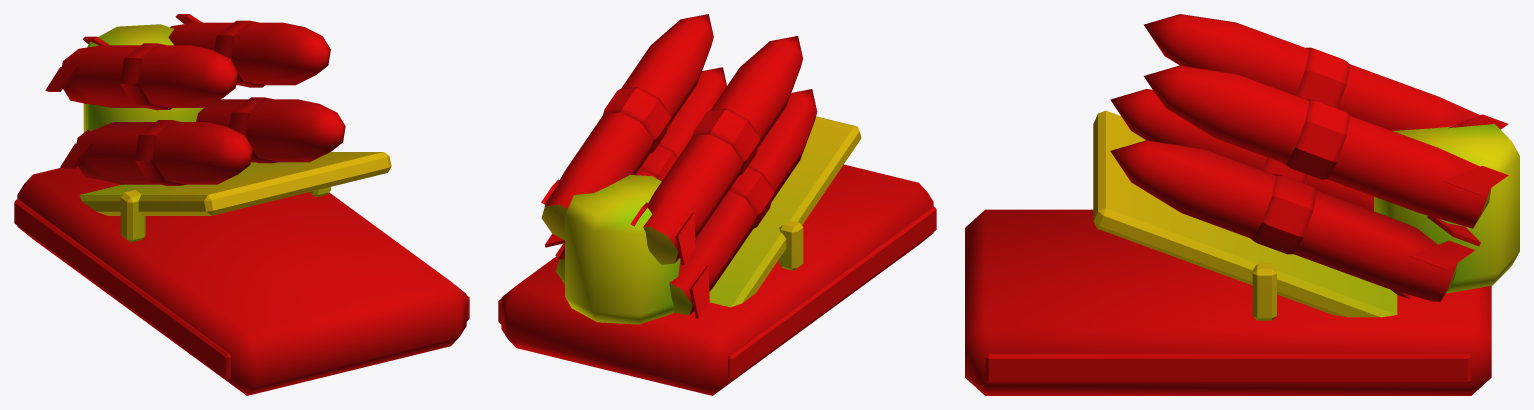
Rendered from RobotRocket_LOD1.glb.
3 renders of one model, left to right at view 1: azimuth 30°, elevation 25°; view 2: azimuth 150°, elevation 25°; view 3: azimuth 270°, elevation 25°, orthographic. The views are drawn at different scales.
Visible parts, largest first — view 1: RobotRocket_LOD1; view 2: RobotRocket_LOD1; view 3: RobotRocket_LOD1.
Boxes of the visible parts, left/top/right/bottom form: RobotRocket_LOD1: left=14, top=14, right=469, bottom=395; RobotRocket_LOD1: left=498, top=14, right=936, bottom=395; RobotRocket_LOD1: left=965, top=14, right=1519, bottom=395.
Bounding box in the file's own units: 1.34 × 1.38 × 2.33.
